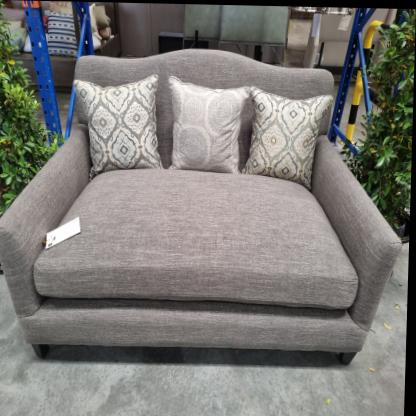Sofa: (0, 41, 412, 370)
